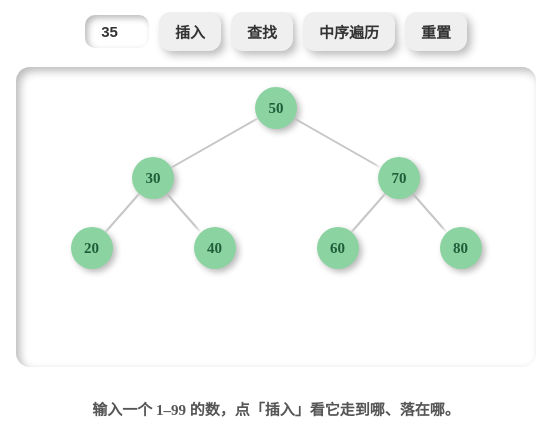
Test: TreeViz › TC-VIZ-TREEVIZ-05 search 没找到解说
This screenshot has width=553, height=435.
Replace the text in the number field named "值" with "55". click: point(117, 32)
box: [85,15,149,48]
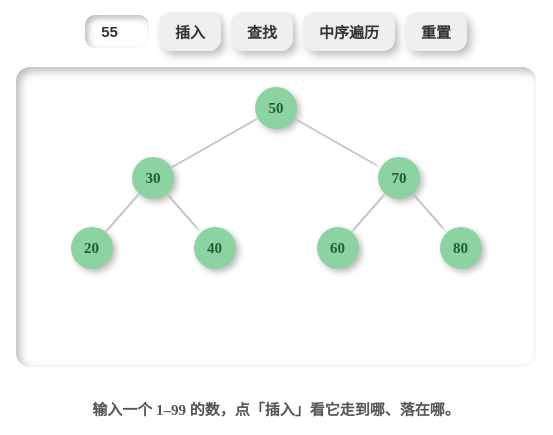
Click the button "查找". click: point(262, 32)
box: [231,12,293,51]
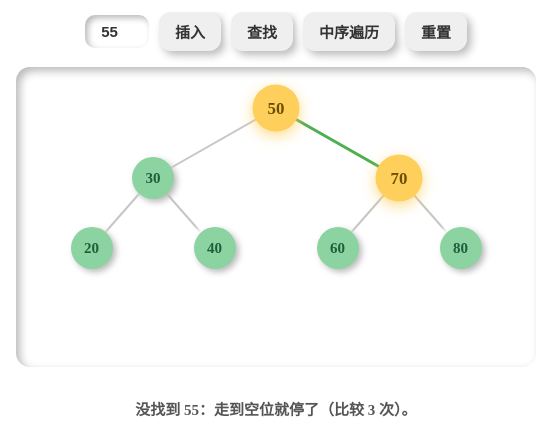
Expected: the message with class "status" shows "没找到", [135,402,417,418]
